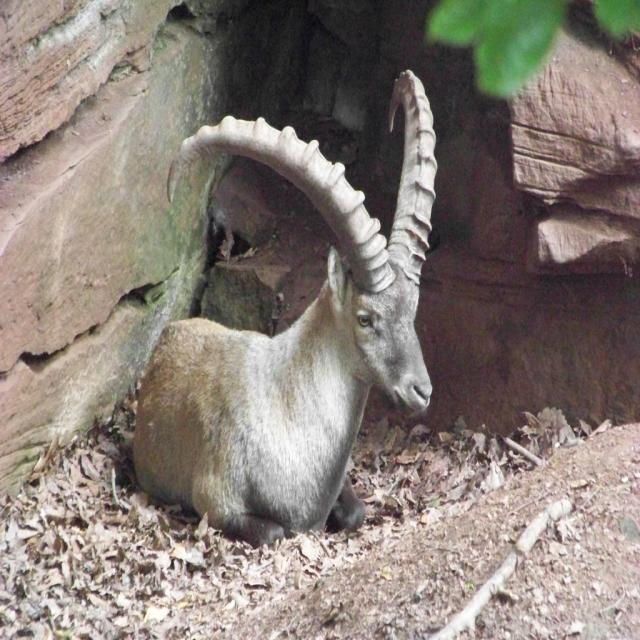Goat: (130, 68, 436, 546)
